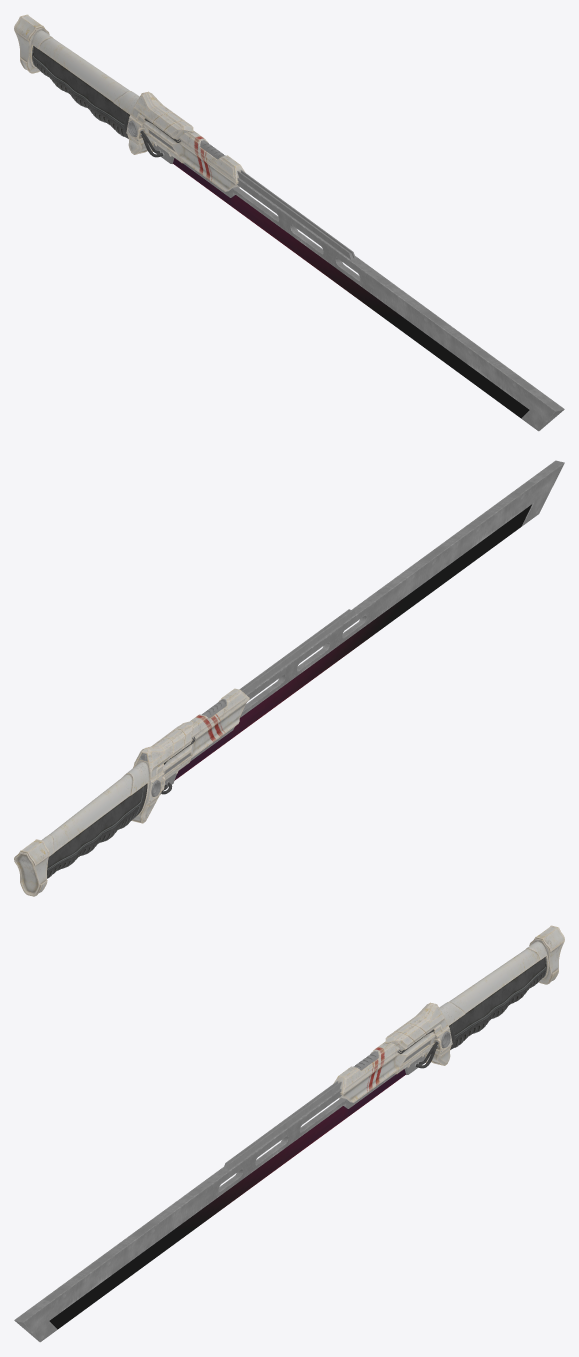
The model's file is sci-fi_sword.glb.
3 renders of one model, top to bottom at view 1: azimuth 30°, elevation 25°; view 2: azimuth 150°, elevation 25°; view 3: azimuth 330°, elevation 25°, orthographic.
Visible parts, largest first — view 1: LP_stiffener.001_blade_2048x4096_0, LP_stiffener_handle4096x4096_0; view 2: LP_stiffener.001_blade_2048x4096_0, LP_stiffener_handle4096x4096_0; view 3: LP_stiffener.001_blade_2048x4096_0, LP_stiffener_handle4096x4096_0.
Part boxes in pixels (left/top/right/bottom): LP_stiffener.001_blade_2048x4096_0: left=173, top=158, right=564, bottom=431; LP_stiffener_handle4096x4096_0: left=14, top=14, right=355, bottom=259; LP_stiffener.001_blade_2048x4096_0: left=174, top=460, right=564, bottom=780; LP_stiffener_handle4096x4096_0: left=14, top=609, right=355, bottom=896; LP_stiffener.001_blade_2048x4096_0: left=14, top=1069, right=405, bottom=1342; LP_stiffener_handle4096x4096_0: left=223, top=925, right=564, bottom=1170.
Size of the model in its own units: 0.045 by 0.1087 by 1.58.
2 materials, 2 textured.
